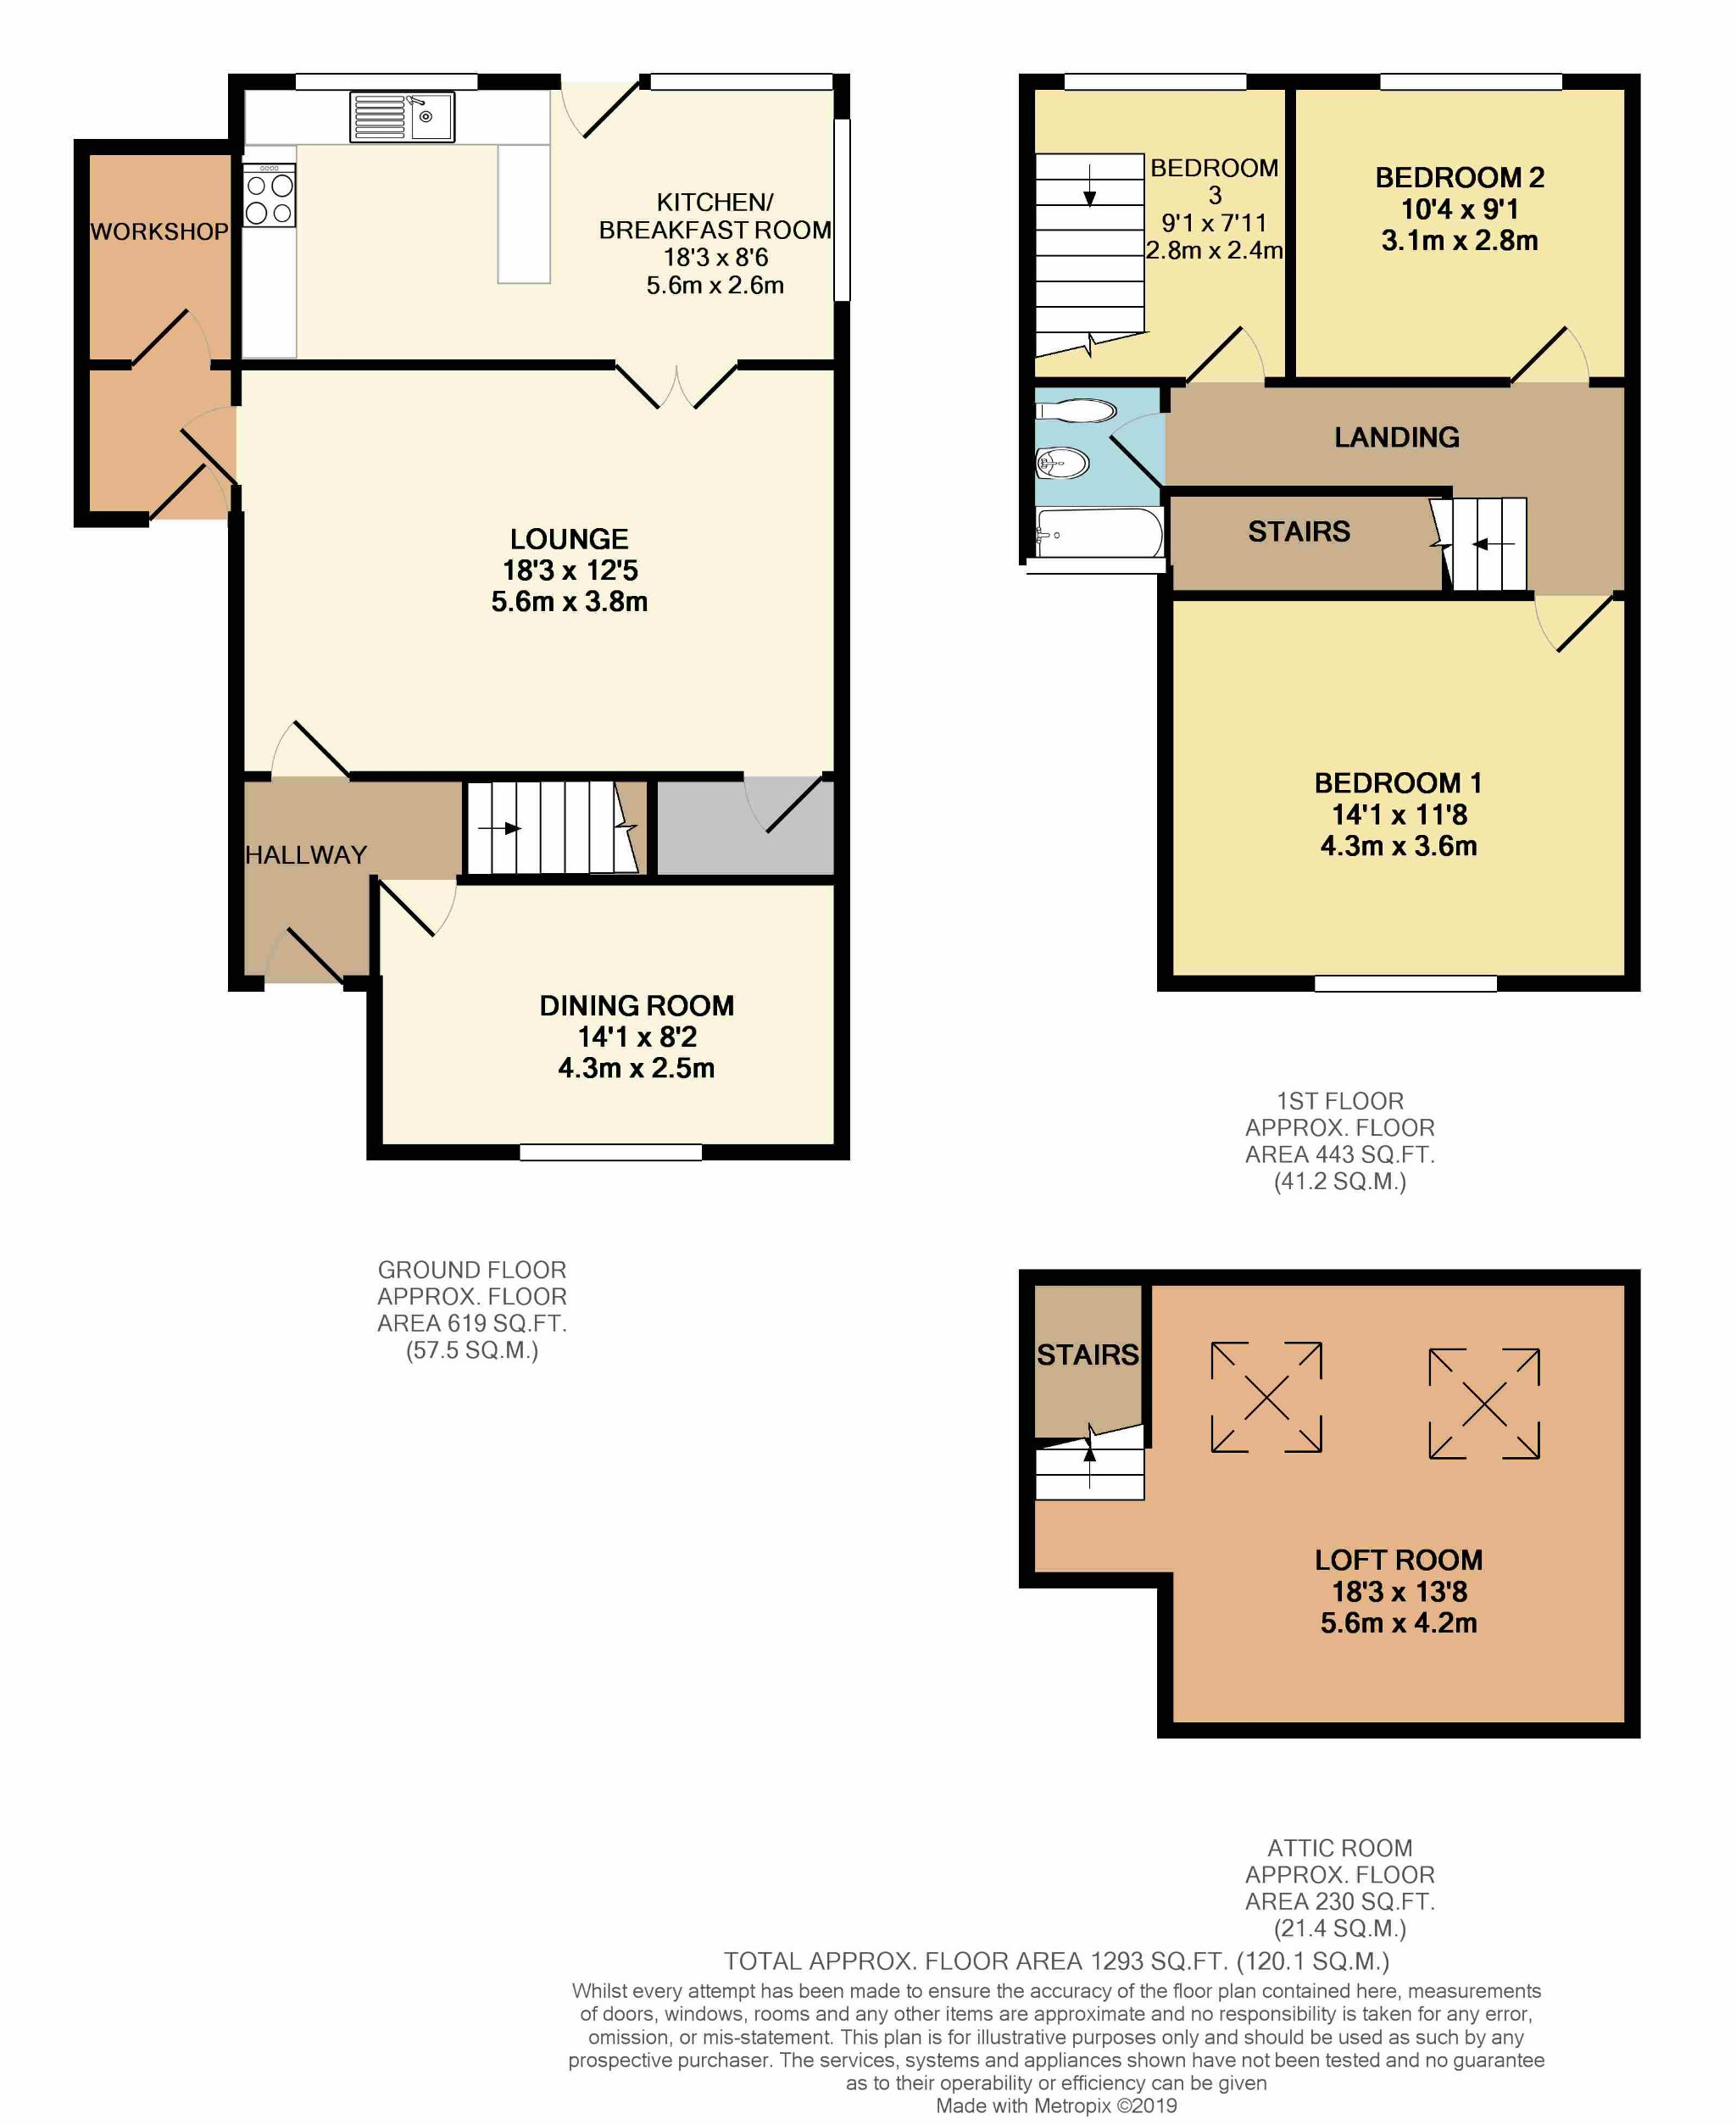door: (617, 358, 736, 418), (1524, 605, 1613, 658), (381, 886, 469, 939), (556, 86, 642, 139), (270, 715, 356, 768), (1512, 319, 1598, 372), (554, 86, 640, 138), (552, 85, 639, 136), (550, 83, 637, 134), (1106, 411, 1161, 489)
